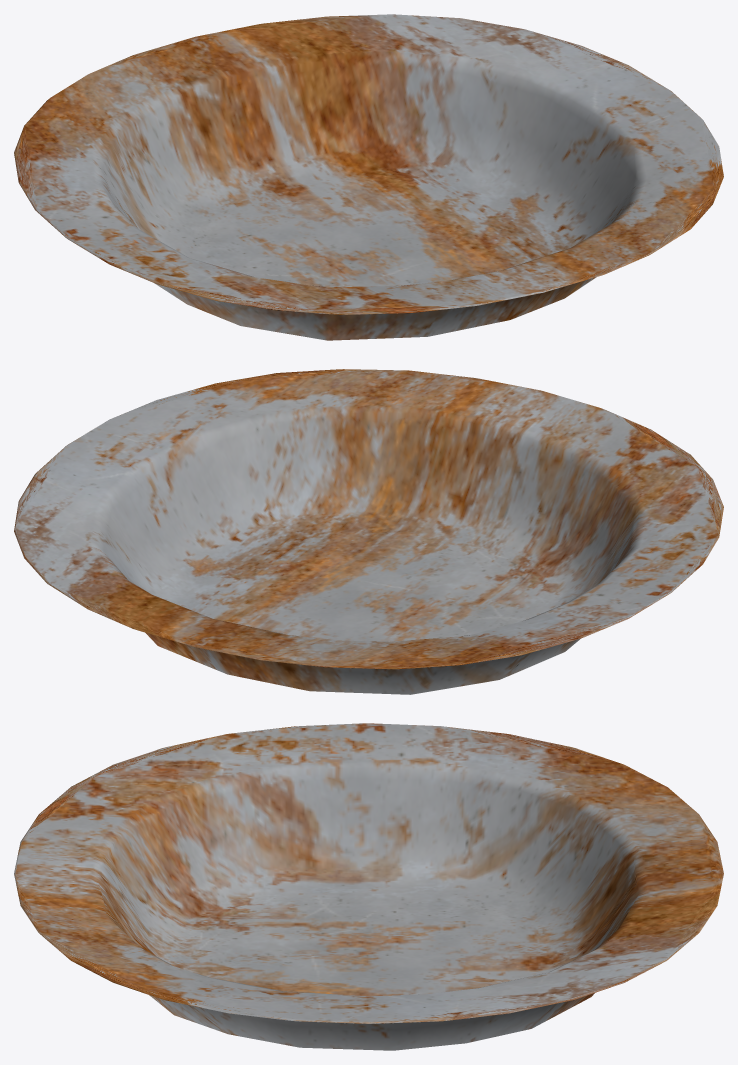
File: SM_plate02.fbx
The picture shows the model from 3 angles, top to bottom: view 1: azimuth 30°, elevation 25°; view 2: azimuth 150°, elevation 25°; view 3: azimuth 270°, elevation 25°; orthographic projection.
Visible parts, largest first — view 1: SM_plate02_LOD0; view 2: SM_plate02_LOD0; view 3: SM_plate02_LOD0.
Boxes of the visible parts, x1,y1,x2,y2 form: SM_plate02_LOD0: (14,14,723,340); SM_plate02_LOD0: (14,369,723,694); SM_plate02_LOD0: (14,723,723,1050).
Size of the model in its own units: 30.76 by 30.76 by 4.44.
